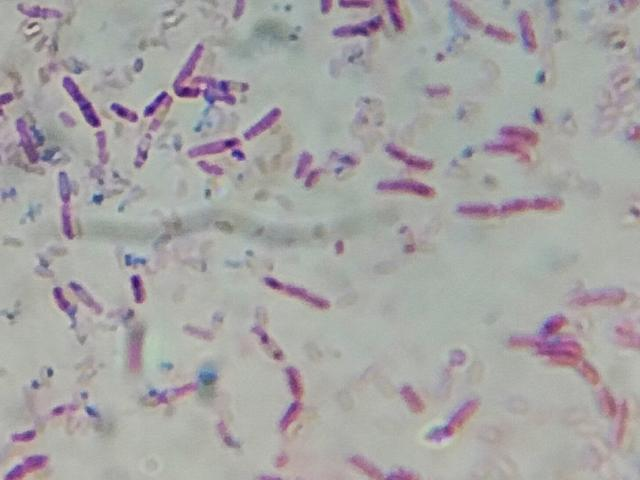E. coli: (264, 267, 334, 314), (456, 195, 572, 222), (45, 165, 81, 251), (59, 67, 101, 137), (504, 332, 586, 366), (428, 400, 487, 447), (579, 366, 621, 421), (179, 76, 248, 108), (275, 366, 308, 431), (6, 109, 42, 166), (386, 139, 440, 174), (149, 372, 196, 410), (372, 174, 438, 200), (247, 98, 281, 146), (5, 451, 60, 480), (335, 12, 380, 43), (296, 154, 327, 196), (104, 95, 136, 133), (185, 135, 240, 156), (137, 84, 169, 120), (344, 450, 380, 480), (519, 10, 543, 53), (67, 279, 96, 314), (47, 284, 70, 324), (495, 126, 542, 145), (396, 381, 422, 414), (453, 0, 484, 27), (480, 147, 529, 164), (176, 42, 202, 74), (383, 0, 405, 33), (130, 274, 150, 306), (538, 315, 568, 336), (224, 0, 254, 21), (200, 158, 225, 181), (488, 20, 508, 46), (324, 0, 375, 9), (313, 0, 335, 12)
